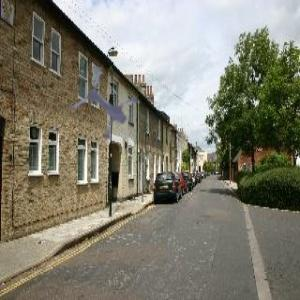drone: (69, 67, 158, 156)
